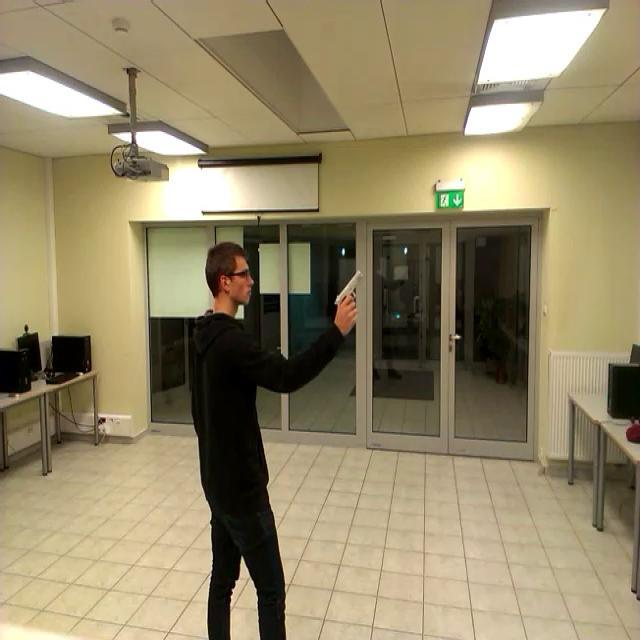Gun: (328, 264, 371, 315)
